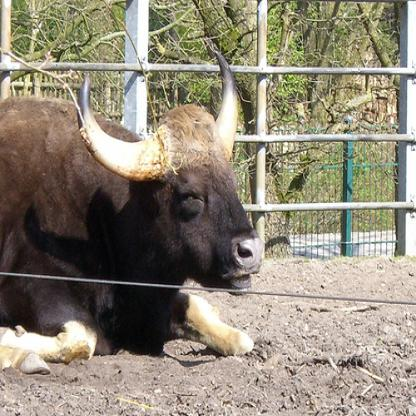cow: (0, 52, 263, 375)
